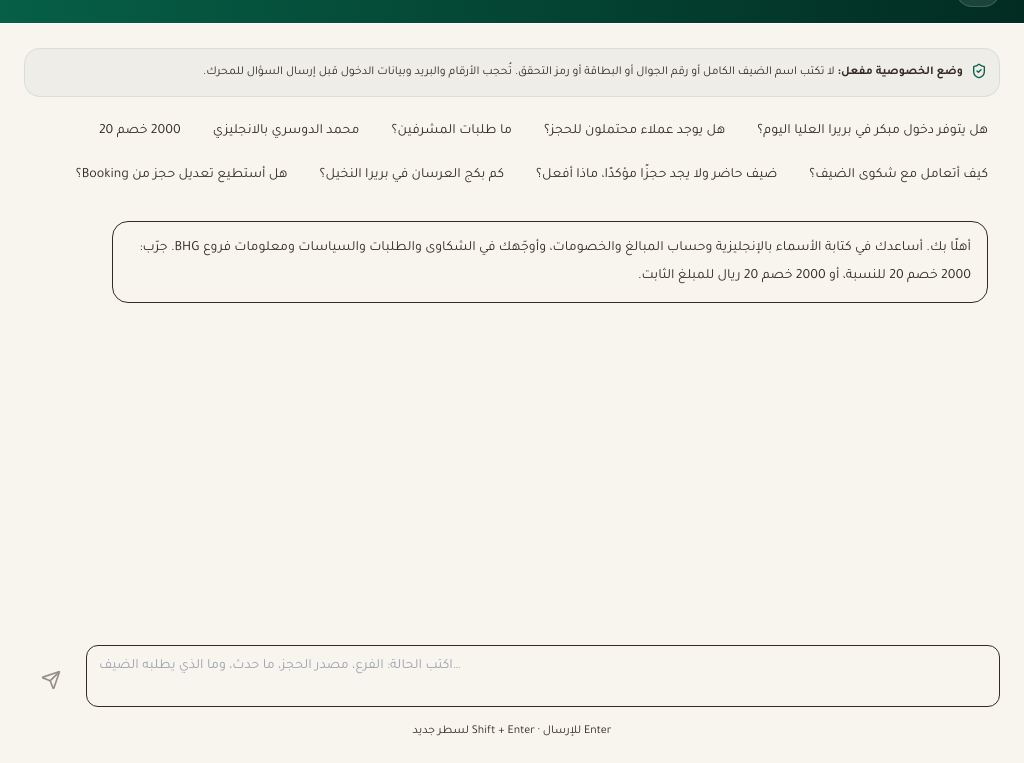
assistant UI › renders streamed answer chunks as they arrive
(page scrolled)
Replace the text in the text box named "سؤالك لمساعد الحجز" with "ما فروع بودل في الرياض؟": (543, 676) [86,644,1000,706]
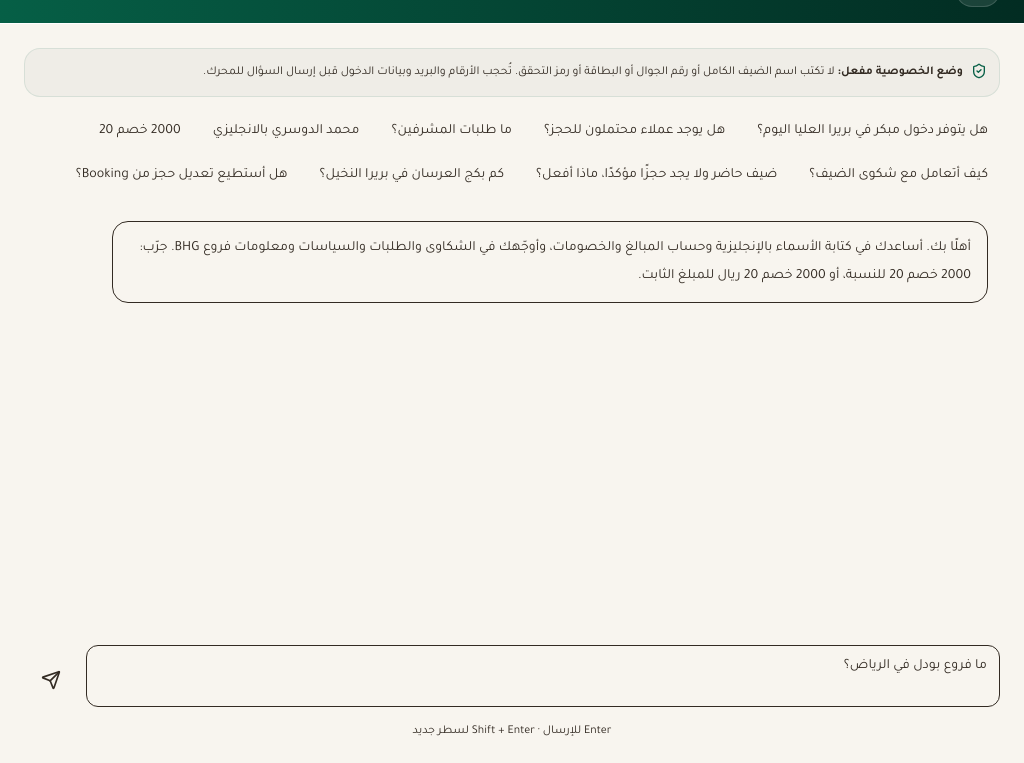
Press Enter in the text box named "سؤالك لمساعد الحجز", box [86,644,1000,706]
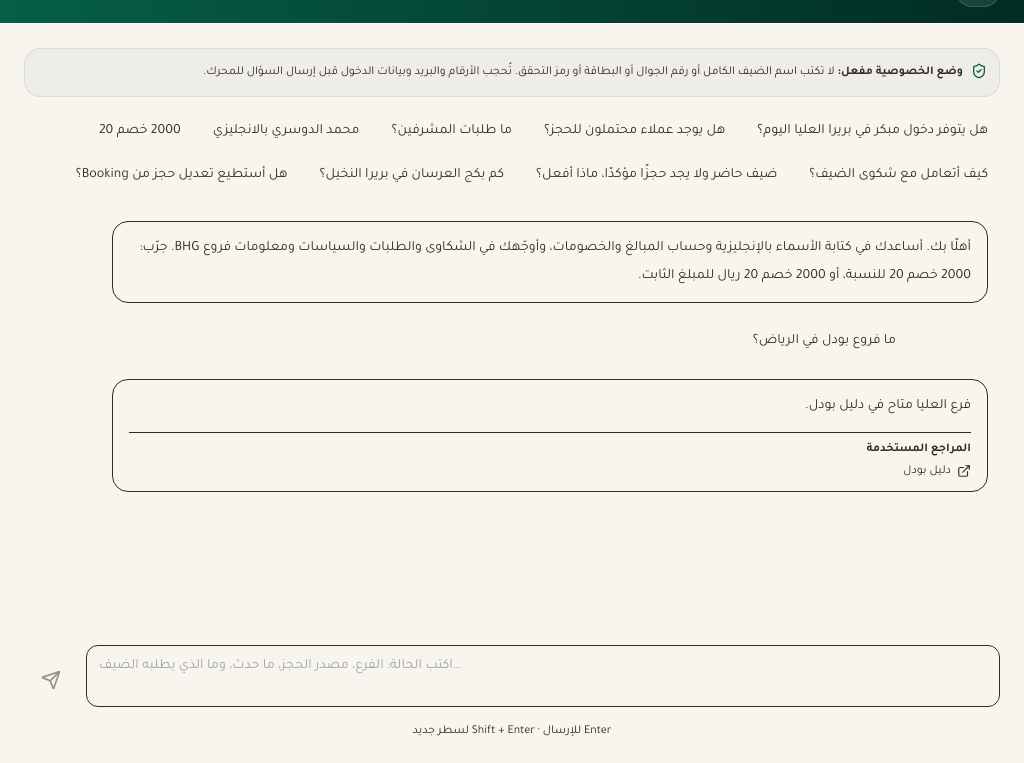
Result: the text "فرع العليا متاح في دليل بودل." is shown at [805,398,971,412]
